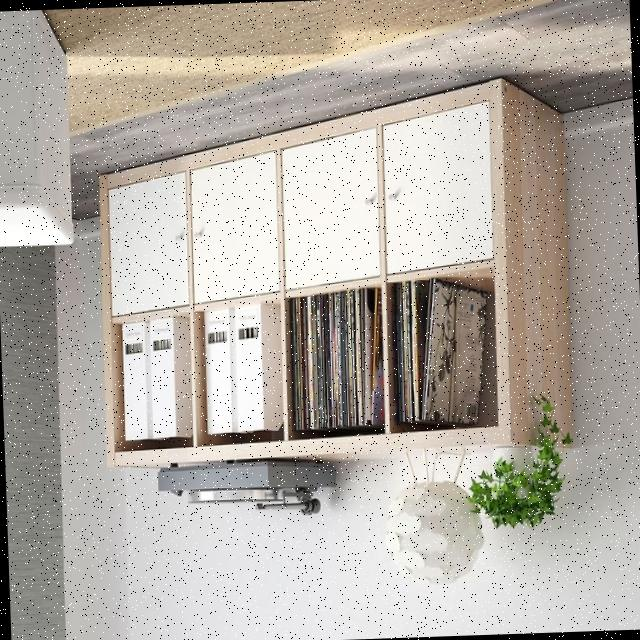Shelf: (89, 69, 580, 472)
